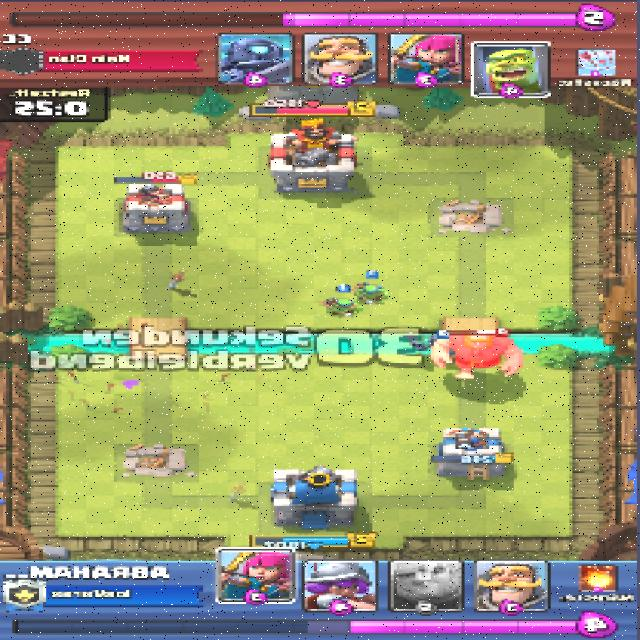Enemy-Giant: (432, 333, 528, 380)
Player-SpearGoblin: (321, 298, 361, 317), (355, 284, 390, 304)
